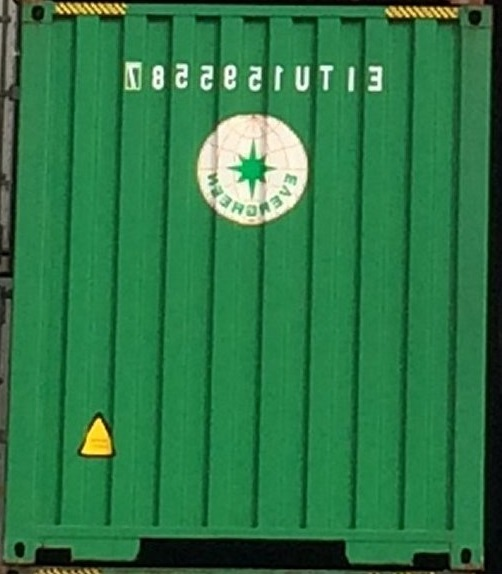container_no_door: (9, 1, 484, 567)
